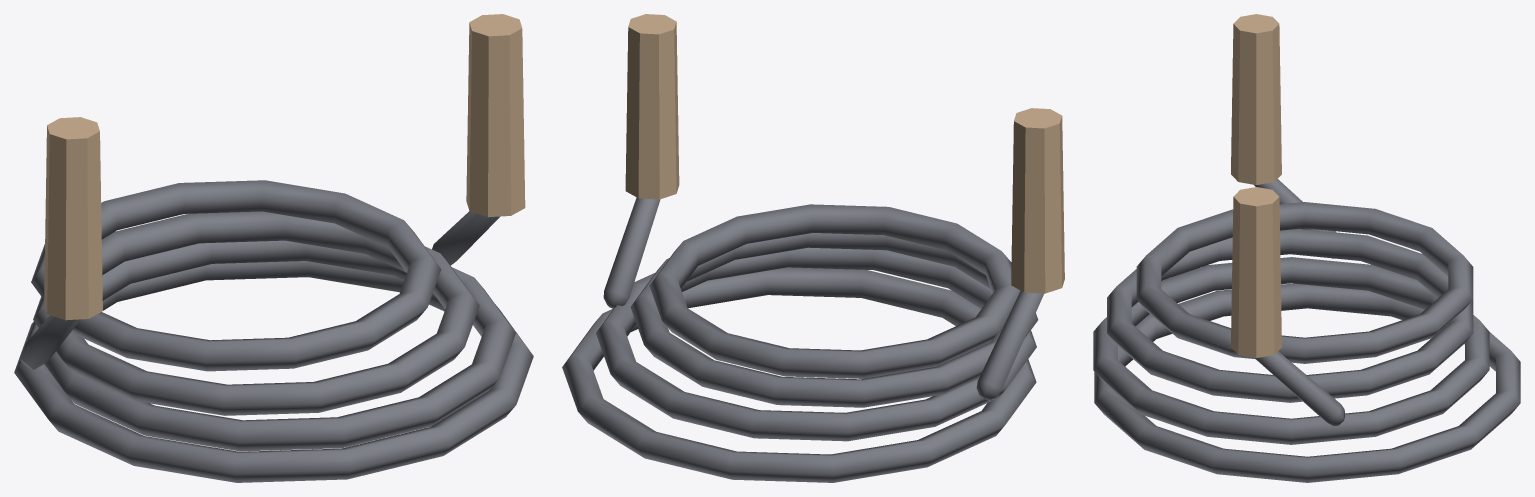
File: jump_rope.glb
3 views of the same model, side by side, from view 1: azimuth 30°, elevation 25°; view 2: azimuth 150°, elevation 25°; view 3: azimuth 270°, elevation 25° (orthographic). The views are drawn at different scales.
Visible parts, largest first — view 1: jump-rope; view 2: jump-rope; view 3: jump-rope.
Boxes of the visible parts, x1=… form: jump-rope: x1=14, y1=14, x2=533, y2=482; jump-rope: x1=562, y1=14, x2=1064, y2=482; jump-rope: x1=1093, y1=14, x2=1520, y2=482.
Size of the model in its own units: 0.366 by 0.2385 by 0.3343.
